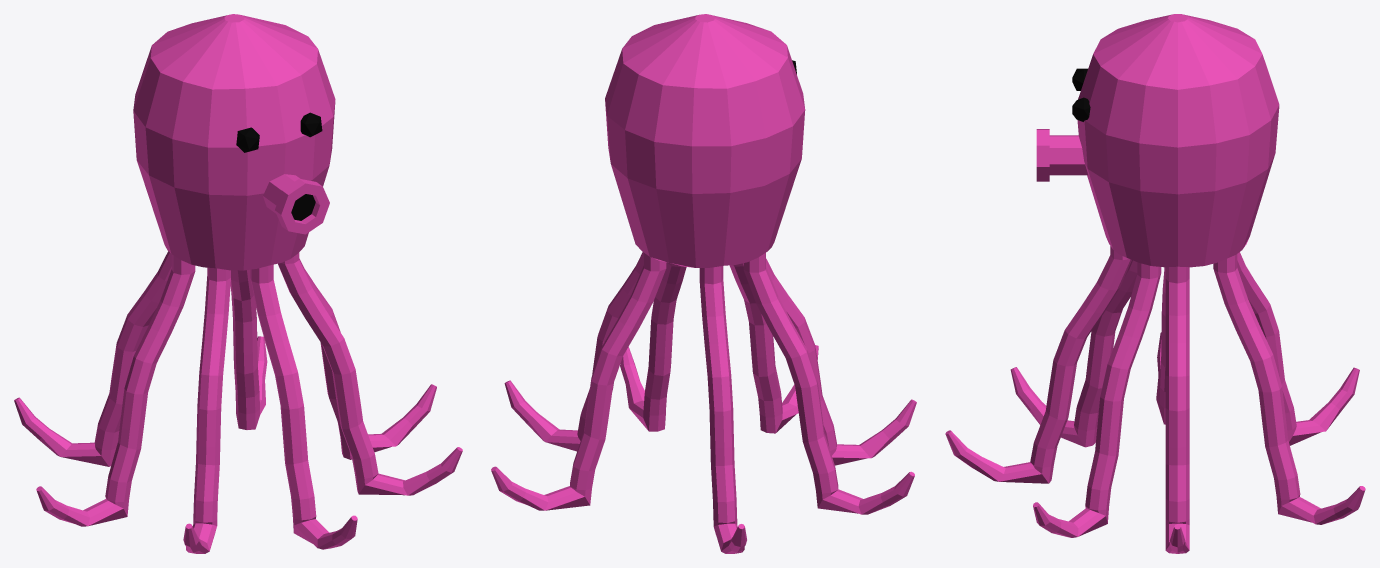
File: OCTOPUS_V1.fbx
3 views of the same model, side by side, from view 1: azimuth 30°, elevation 25°; view 2: azimuth 150°, elevation 25°; view 3: azimuth 270°, elevation 25° (orthographic).
Visible parts, largest first — view 1: Cylinder; view 2: Cylinder; view 3: Cylinder.
Boxes of the visible parts, box(x1,y1,x2,y2) form: Cylinder: box(14, 14, 462, 553); Cylinder: box(491, 14, 916, 553); Cylinder: box(945, 14, 1365, 553).
Bounding box in the file's own units: 646 × 706 × 583.
